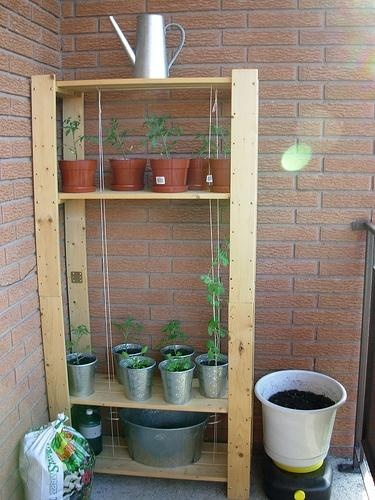pottedplant: (198, 248, 233, 400), (55, 113, 103, 199), (143, 116, 188, 198), (106, 104, 144, 192), (201, 125, 242, 200), (64, 318, 100, 396), (109, 320, 148, 383), (120, 337, 152, 400), (160, 350, 194, 406), (159, 323, 195, 358), (188, 147, 207, 194)
